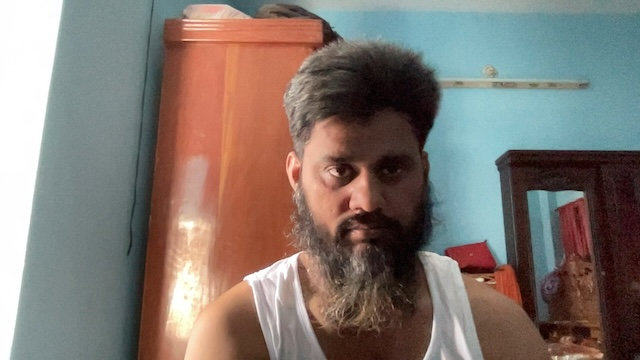Helmet: (269, 42, 435, 296)
